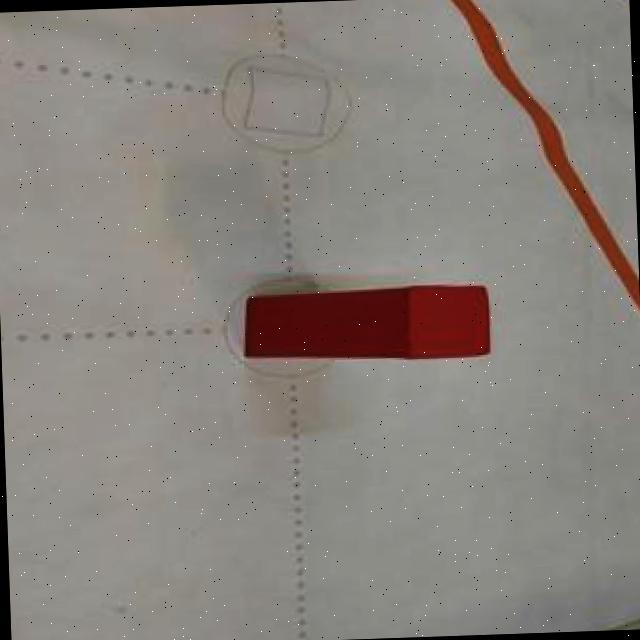redbox: (238, 282, 496, 368)
